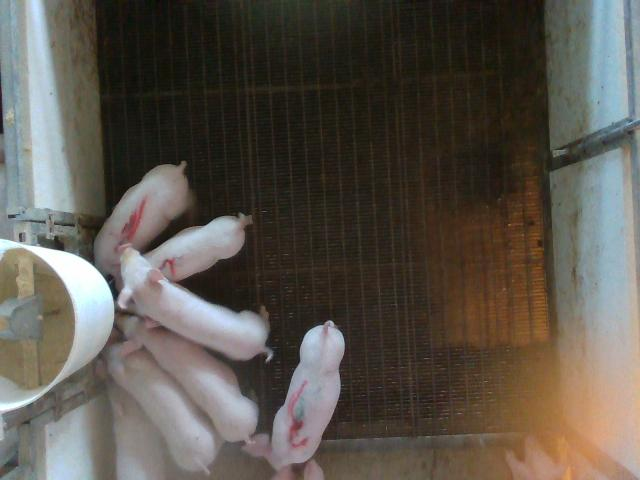pig-1: (95, 161, 190, 287)
pig-3: (242, 321, 345, 479)
pig-5: (144, 216, 252, 282)
